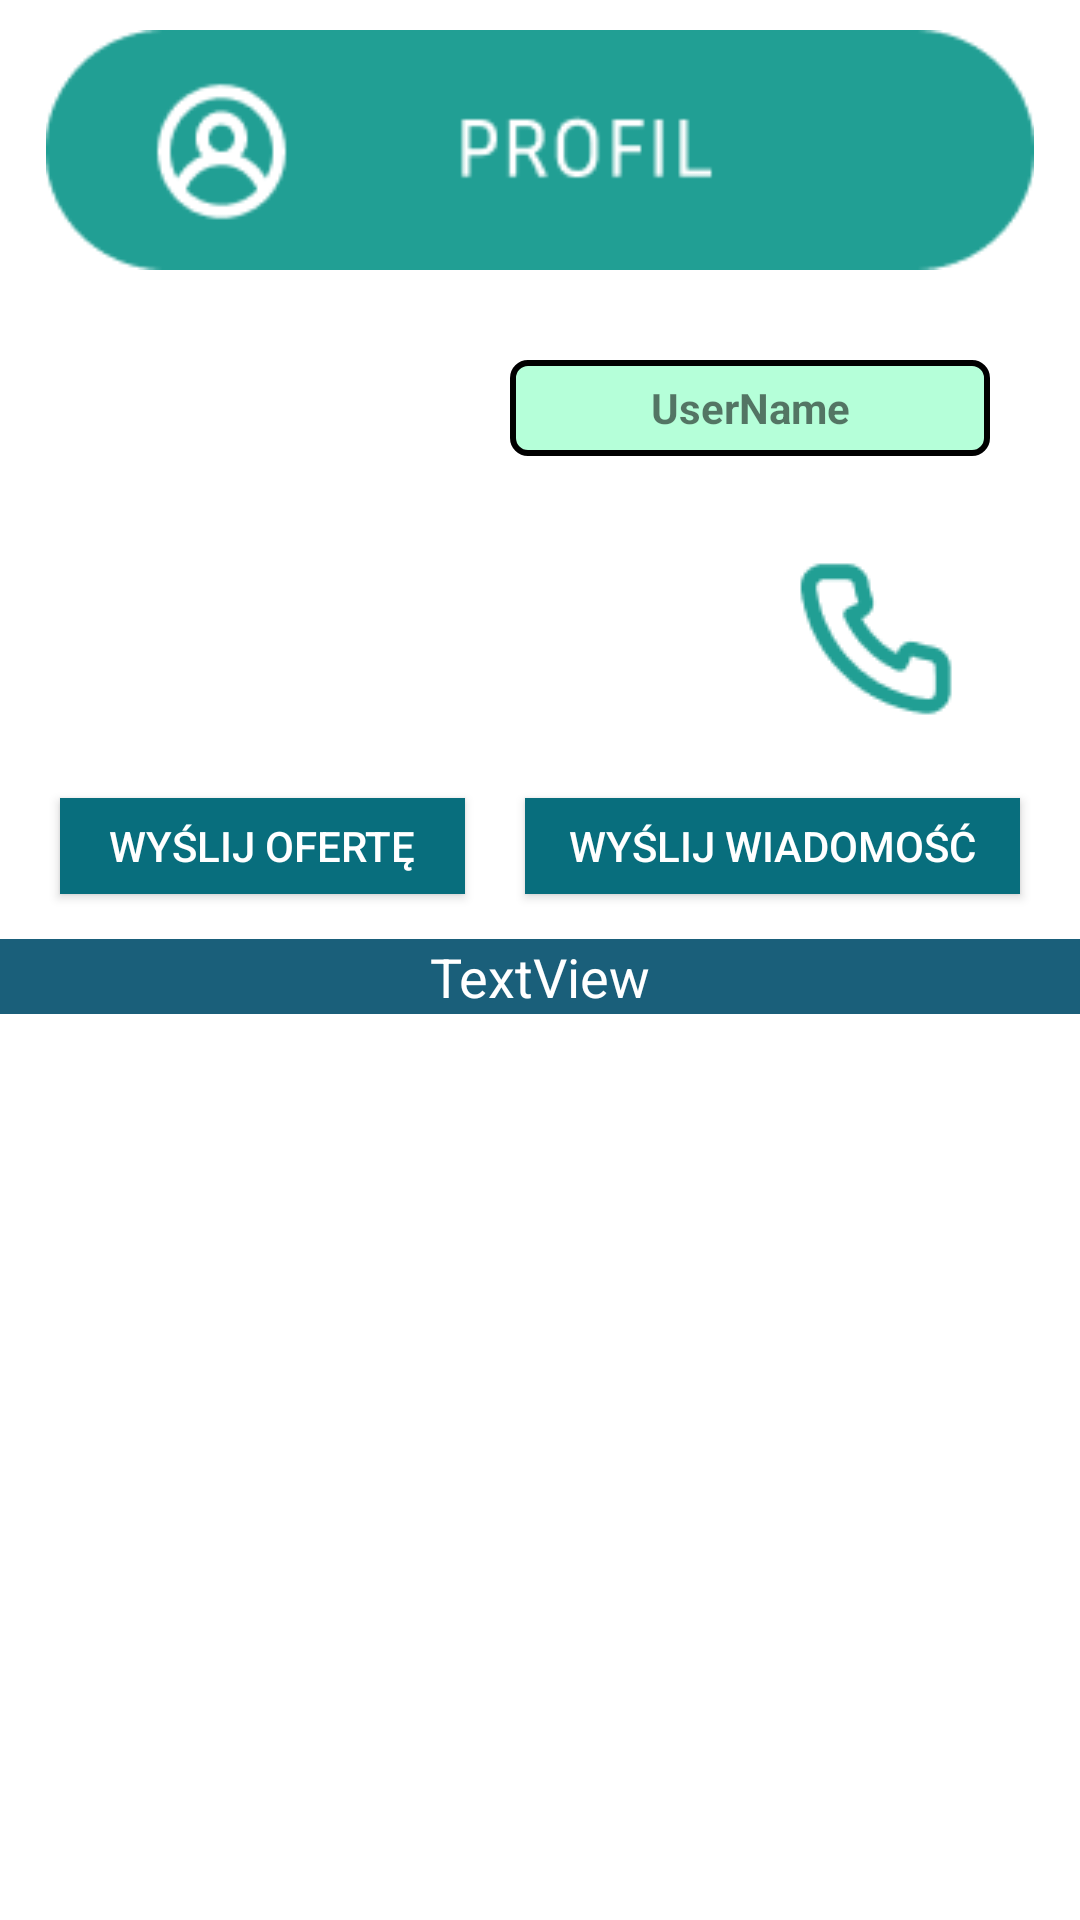

Where icons sit on this 1080px×1920px app screen, as (x1, y1, x2, y2):
telephone: (800, 563, 952, 715)
